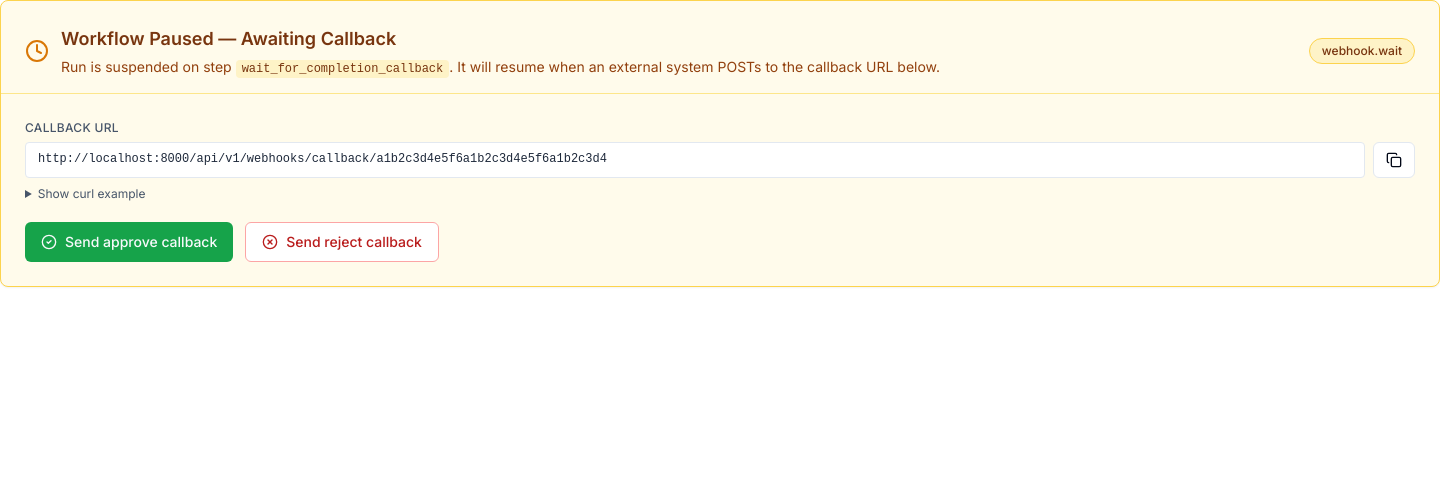
Test case: WebhookCallbackPanel › refuses to submit a reject without a reason
This screenshot has width=1440, height=502.
Click the button with test id "webhook-reject-trigger".
click(342, 242)  # box [245,222,439,262]
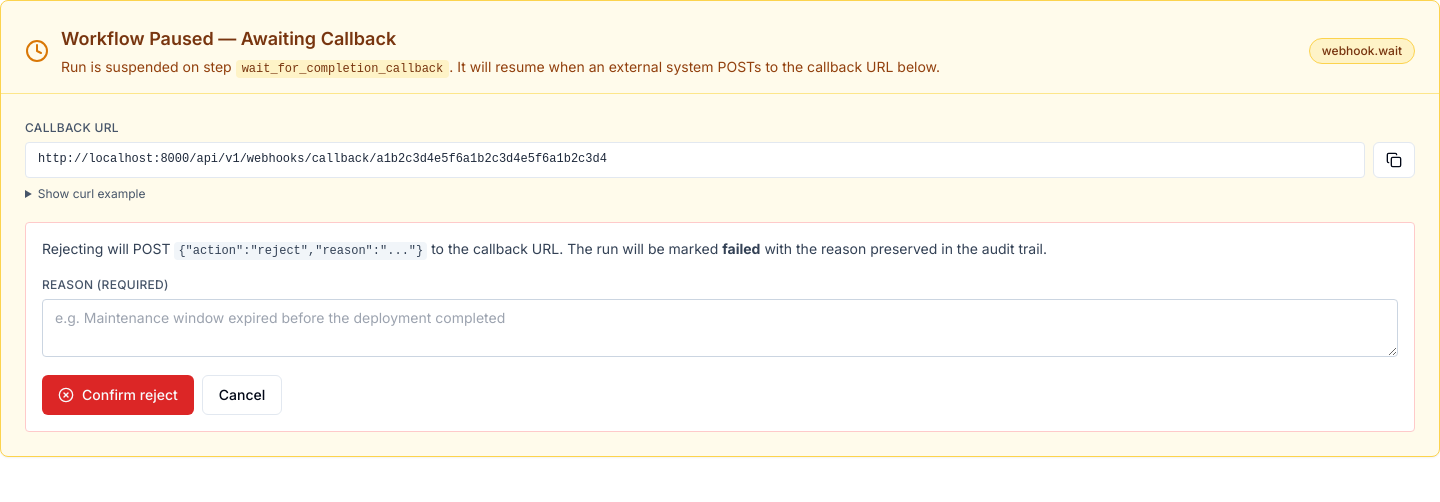
Click the button with test id "webhook-reject-submit".
click(118, 395)  # box [42,375,194,415]
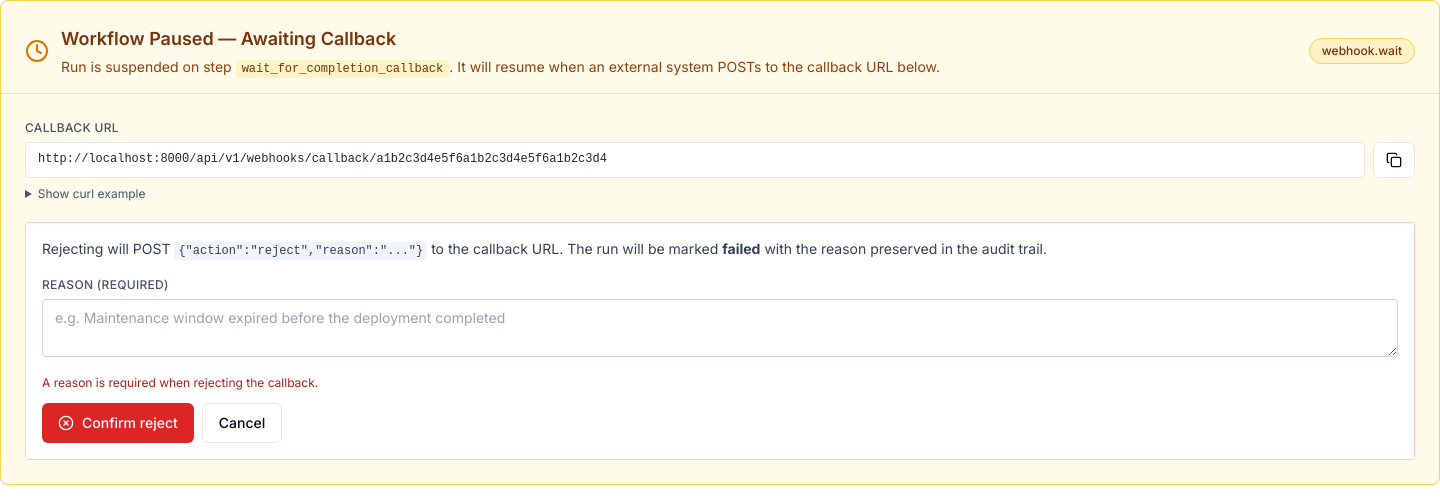
Expected: the message shows "reason is required", [42,375,318,390]
